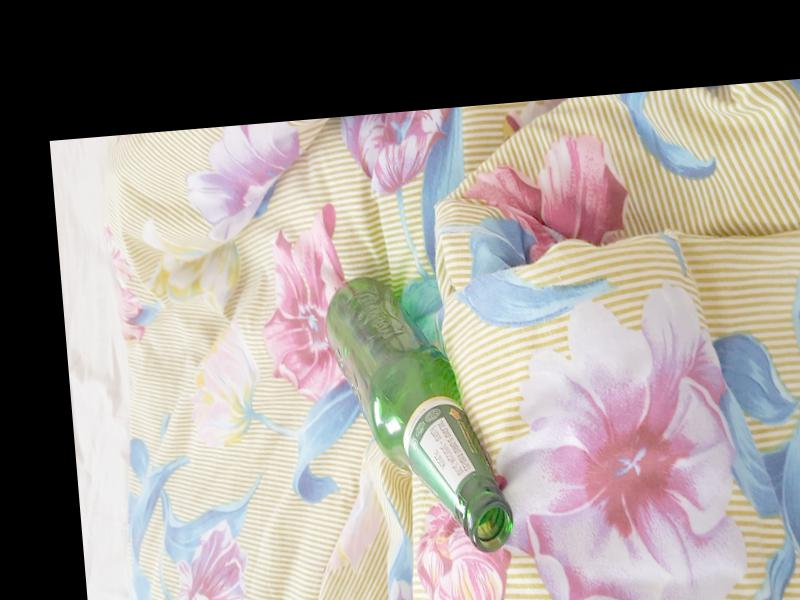Beer: (323, 269, 517, 562)
